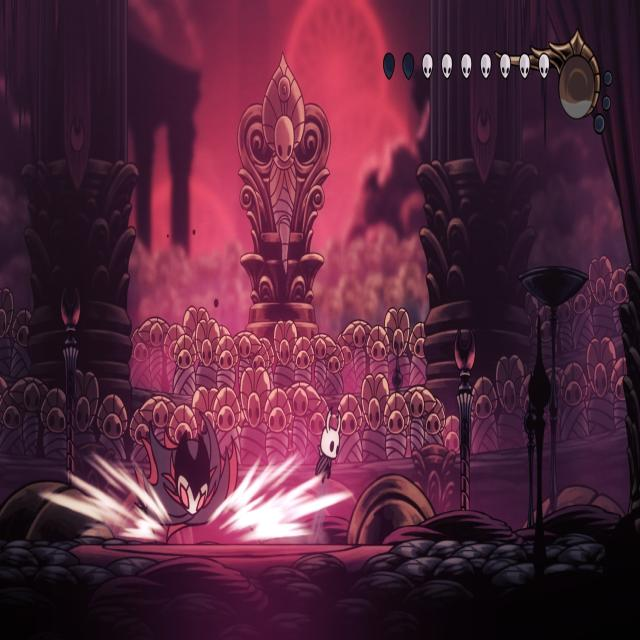Dive Dash: (126, 396, 248, 538)
Player: (311, 406, 343, 490)
